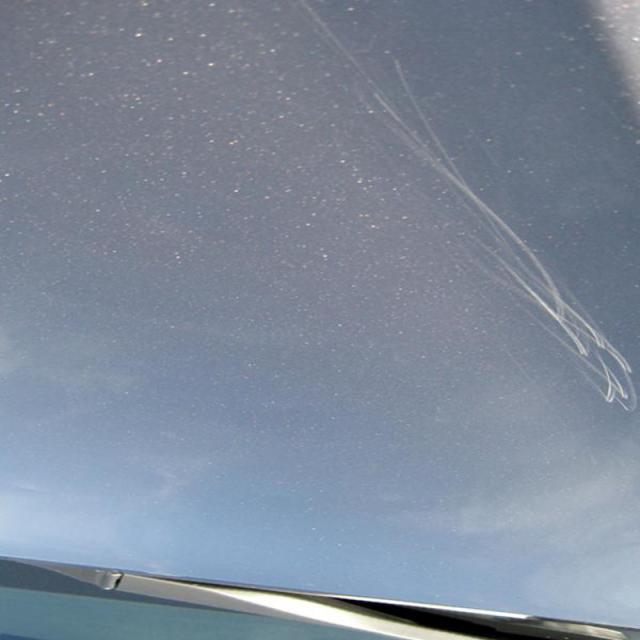scratch: (342, 38, 640, 416)
